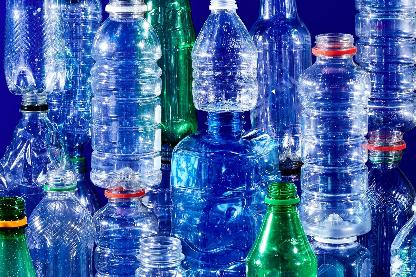Plastic Bottle: (168, 111, 280, 277), (300, 31, 372, 237), (90, 0, 164, 193), (350, 128, 415, 277), (192, 0, 260, 114), (30, 168, 96, 277), (245, 181, 318, 277)
